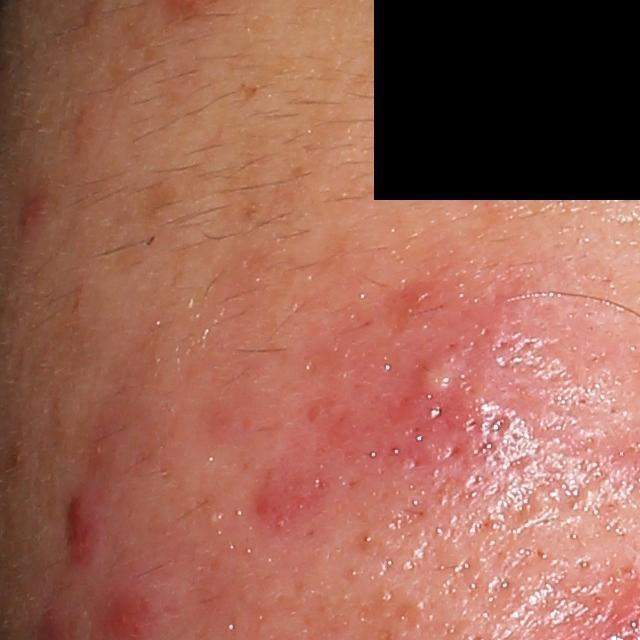papule: (60, 488, 101, 557), (11, 189, 54, 239)
